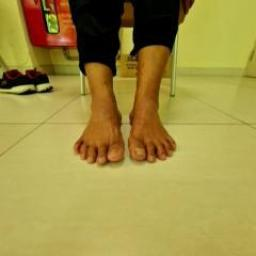Front View -Both Feet-: (58, 75, 186, 181)
